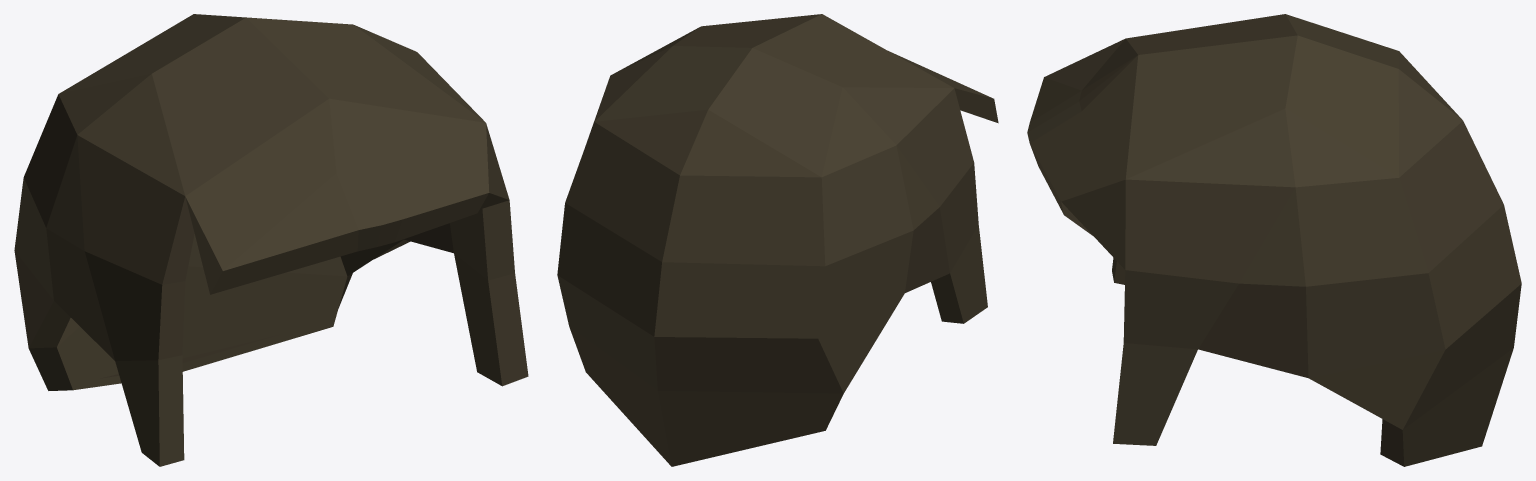
Rendered from Male_Male Hairstyles_OBJ_Male_Hairstyle_2.glb.
3 views of the same model, side by side, from view 1: azimuth 30°, elevation 25°; view 2: azimuth 150°, elevation 25°; view 3: azimuth 270°, elevation 25° (orthographic). The views are drawn at different scales.
Visible parts, largest first — view 1: Male_Hairstyle_2_Human_CylinderMesh.000; view 2: Male_Hairstyle_2_Human_CylinderMesh.000; view 3: Male_Hairstyle_2_Human_CylinderMesh.000.
Part boxes in pixels (x1,y1,x2,y2): Male_Hairstyle_2_Human_CylinderMesh.000: (14, 14, 528, 466); Male_Hairstyle_2_Human_CylinderMesh.000: (557, 14, 998, 466); Male_Hairstyle_2_Human_CylinderMesh.000: (1027, 14, 1521, 466).
Size of the model in its own units: 0.5025 by 0.5245 by 0.572.
